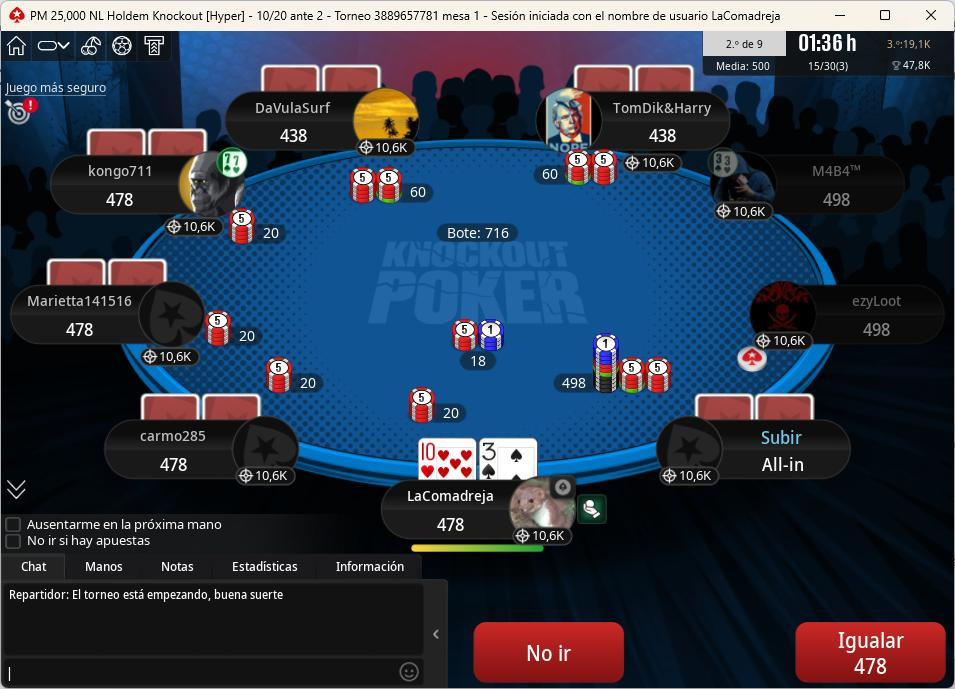ButtonCall: (789, 616, 949, 686)
ButtonFold: (469, 620, 631, 686)
Dealer: (734, 339, 772, 378)
HiddenCards: (692, 393, 821, 423), (140, 393, 266, 423), (84, 131, 211, 159), (46, 258, 171, 286), (261, 67, 386, 95), (575, 67, 700, 95)
Player: (50, 150, 253, 218), (102, 419, 302, 487), (653, 421, 852, 489), (749, 282, 950, 349), (708, 151, 909, 217), (11, 284, 208, 350), (225, 93, 420, 159), (547, 89, 733, 154)
PlayerBet: (544, 328, 679, 403), (346, 165, 444, 211), (256, 355, 330, 399), (203, 309, 266, 351), (227, 208, 292, 248)
PlayerChips: (758, 453, 813, 476), (59, 322, 102, 342), (152, 455, 193, 475), (859, 322, 899, 342), (98, 192, 140, 211), (273, 129, 316, 147), (819, 191, 860, 209)
PrincipalBet: (405, 387, 474, 428)
PrincipalCards: (413, 437, 541, 484)
PrincipalCards1: (416, 436, 477, 484)
PrincipalCards2: (478, 436, 541, 481)
PrincipalPlayer: (385, 475, 588, 551)
PrincipalPlayerChips: (430, 517, 475, 537)
SmallBigBlind: (246, 6, 336, 26)
TablePot: (441, 316, 532, 378)
